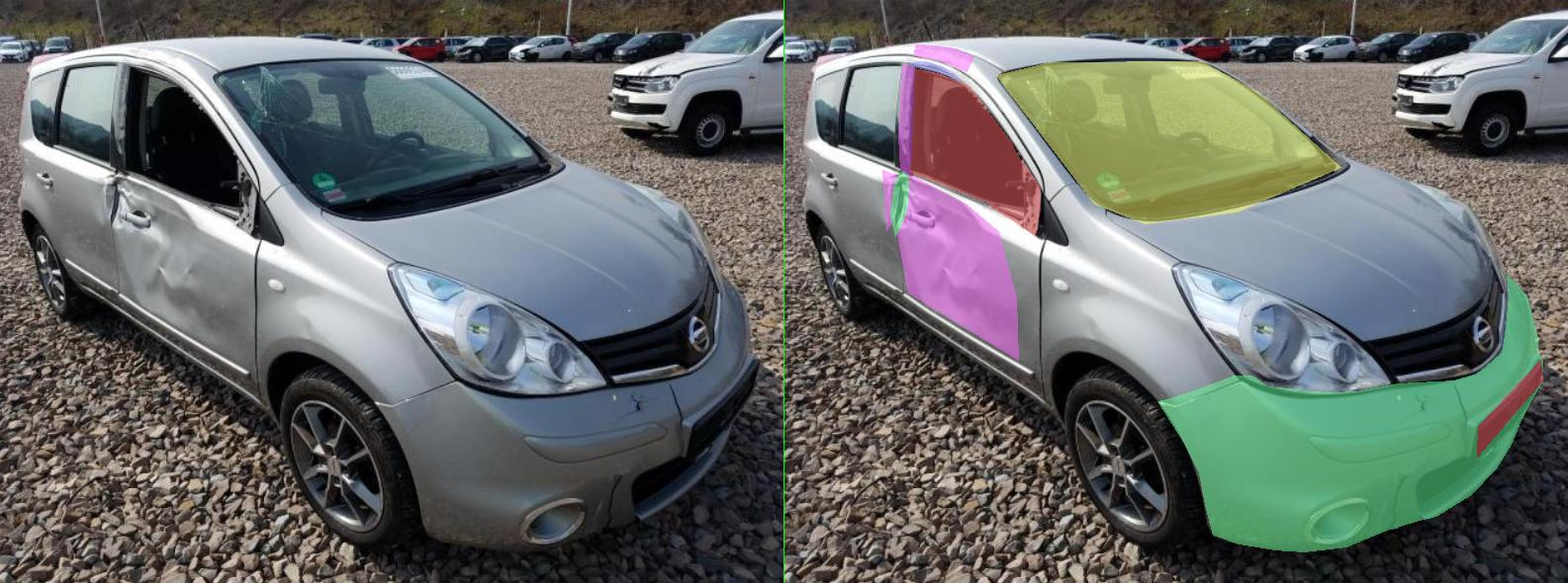Broken part: (746, 275, 1517, 551), (212, 170, 247, 236)
Cracked: (424, 61, 1113, 223)
Dent: (222, 173, 467, 360), (228, 64, 259, 174), (257, 44, 378, 71), (196, 170, 234, 230)
Missing part: (251, 68, 481, 211), (1386, 360, 1517, 457), (386, 148, 511, 235)
Scratch: (1194, 475, 1259, 530), (1218, 393, 1309, 424), (247, 61, 350, 81), (1344, 382, 1368, 427)
